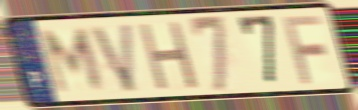7: (186, 12, 231, 95), (234, 14, 279, 90)
F: (279, 13, 326, 87)
H: (136, 18, 202, 94)
M: (40, 26, 107, 96)
V: (87, 20, 139, 95)
